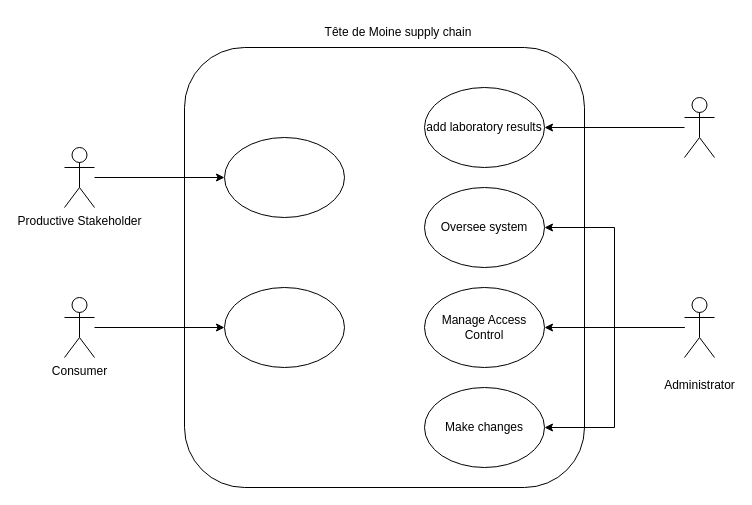
Image size: 752x505. Some labels were removed from this diagram. The box of each missing label's shape, as (x1, y1, x2, y2) in pixels:
checking cheese information: (224, 286, 344, 368)
Laboratory: (684, 96, 714, 158)
record production step and details: (224, 136, 344, 218)
